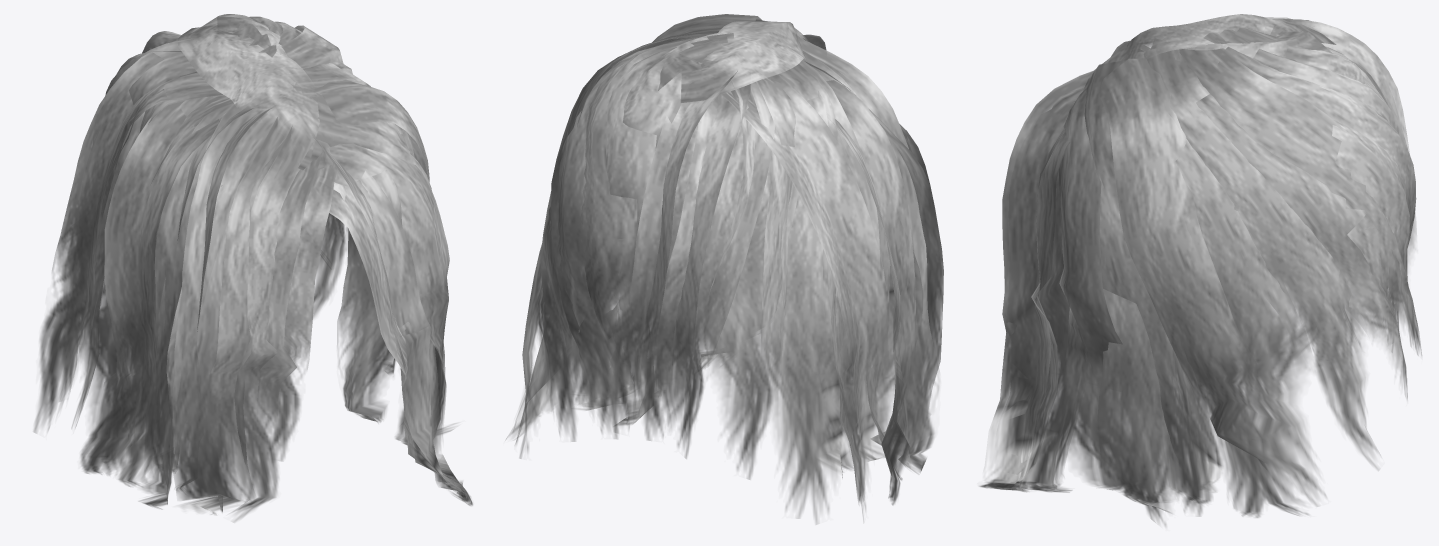
File: daz_hair_island_princess.glb
3 views of the same model, side by side, from view 1: azimuth 30°, elevation 25°; view 2: azimuth 150°, elevation 25°; view 3: azimuth 270°, elevation 25° (orthographic). The views are drawn at different scales.
Visible parts, largest first — view 1: daz_hair_island_princess; view 2: daz_hair_island_princess; view 3: daz_hair_island_princess.
Boxes of the visible parts, x1,y1,x2,y2 form: daz_hair_island_princess: [33, 14, 472, 522]; daz_hair_island_princess: [505, 14, 943, 524]; daz_hair_island_princess: [979, 14, 1421, 526].
Bounding box in the file's own units: 0.2447 × 0.2576 × 0.2551.
1 material, 1 textured.
